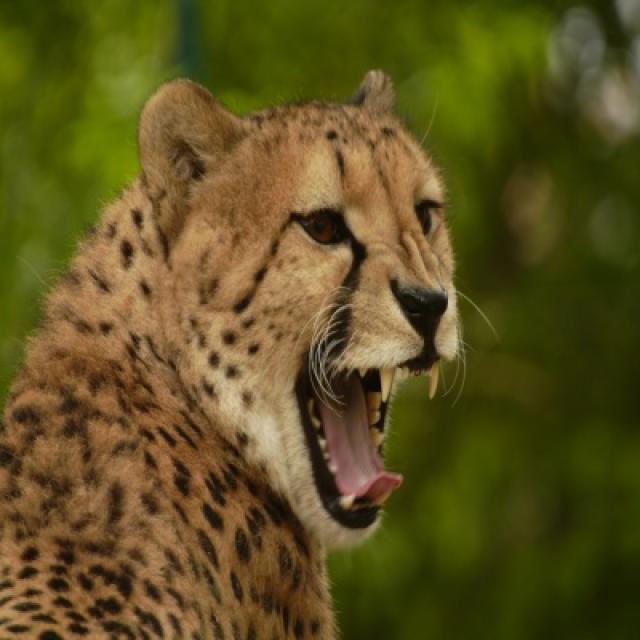Cheetah: (0, 74, 458, 638)
